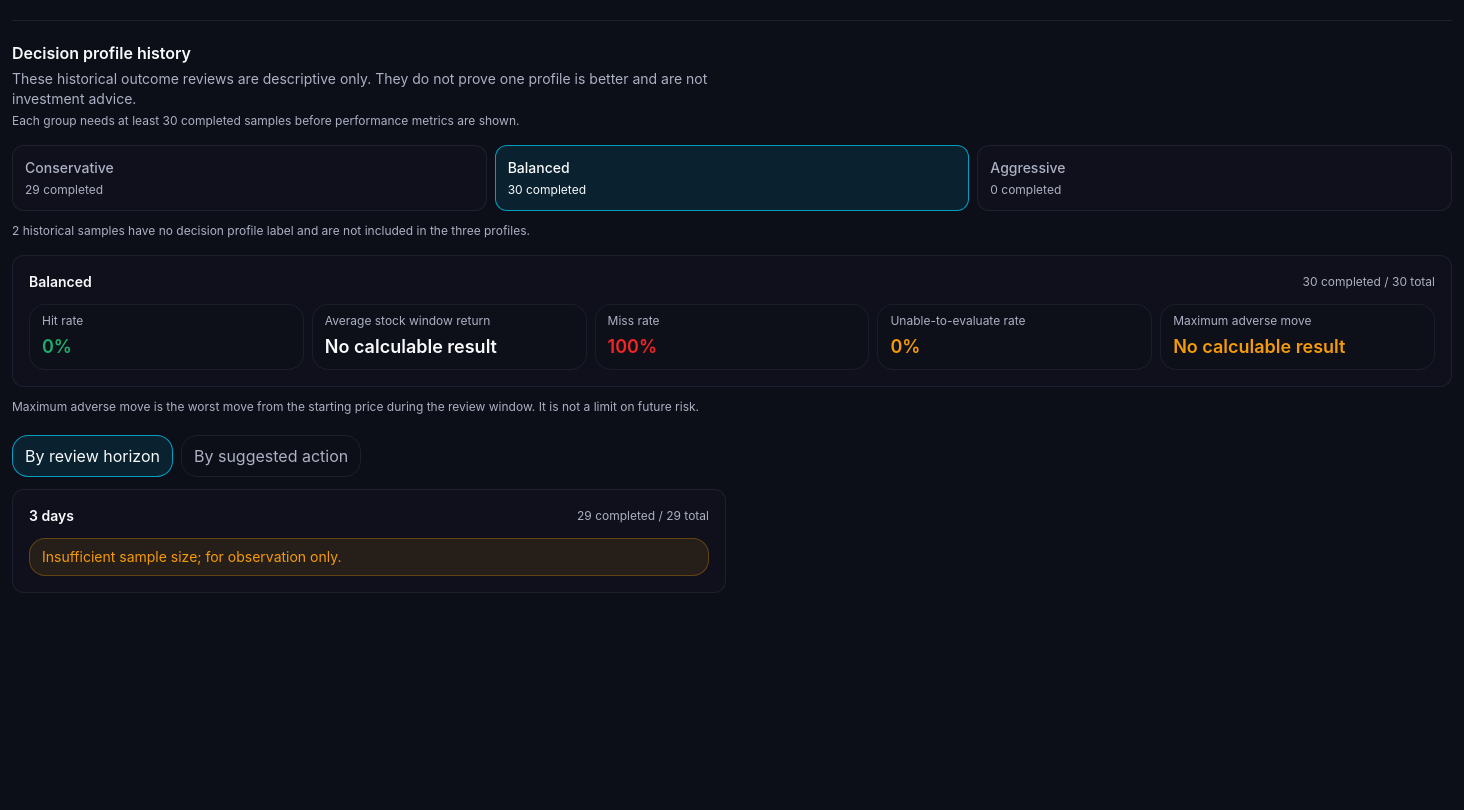
Test: DecisionSignalProfileCalibration › keeps profile and child sample gates independent and distinguishes zero from no result
Check: the heading "Decision profile history" is shown, box [12, 43, 191, 63]
Check: the text "2 historical samples have no decision profile label and are not included in the three profiles." is shown, box [12, 223, 530, 238]
What coordinates should you click on to do the following:
click the button "Conservative 29 completed"
I would click on:
 (69, 168)
Its box is [12, 145, 487, 211].
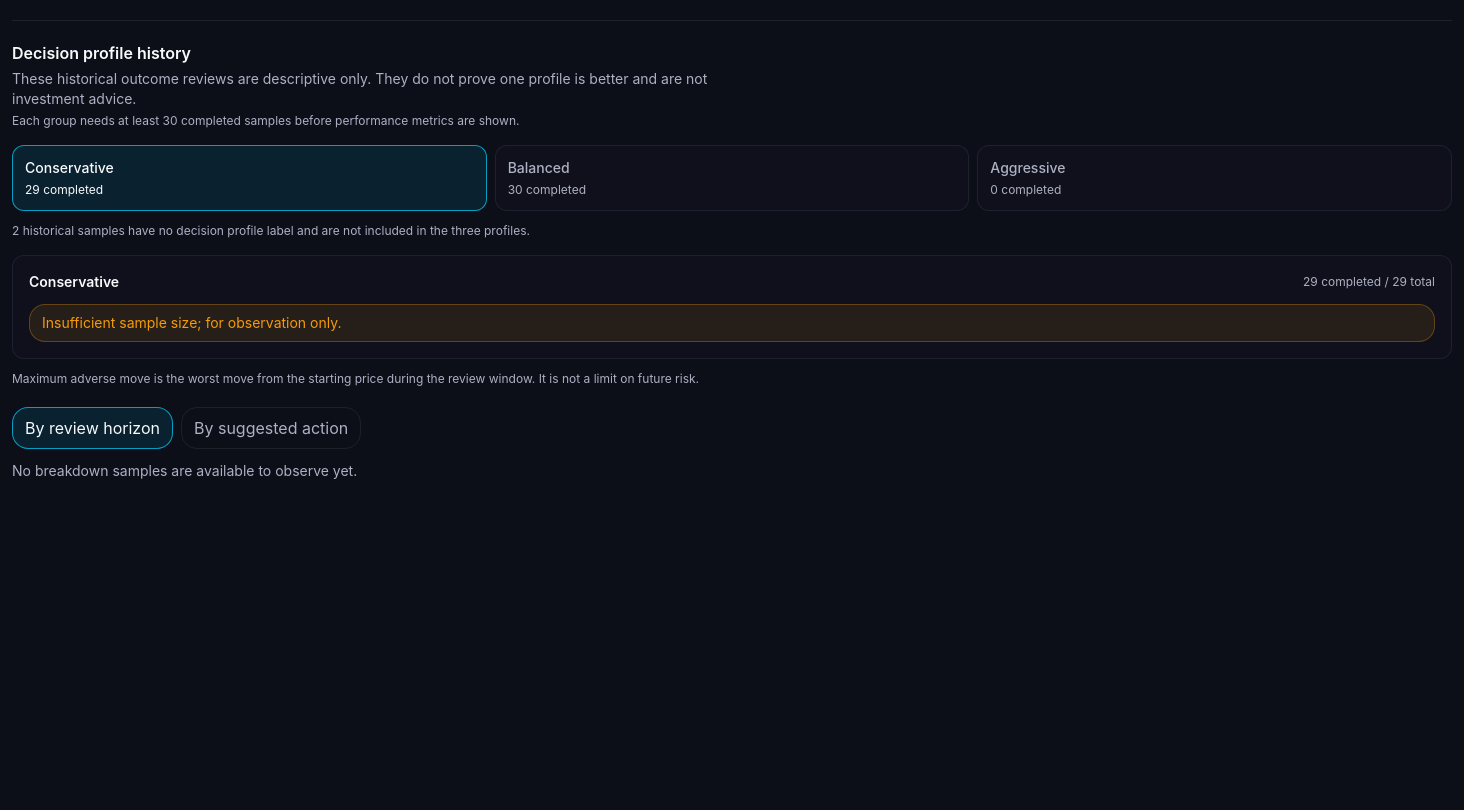
Check: the text "Insufficient sample size; for observation only." is shown, box [29, 304, 1435, 342]
Check: the text "No breakdown samples are available to observe yet." is shown, box [12, 462, 357, 479]
